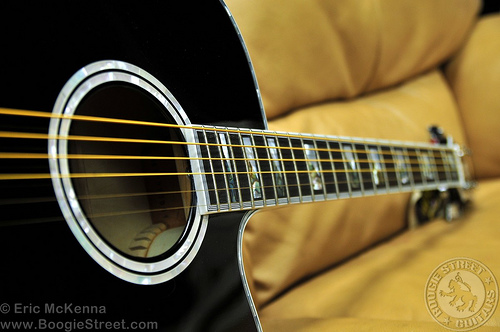guitar: (1, 1, 473, 332)
